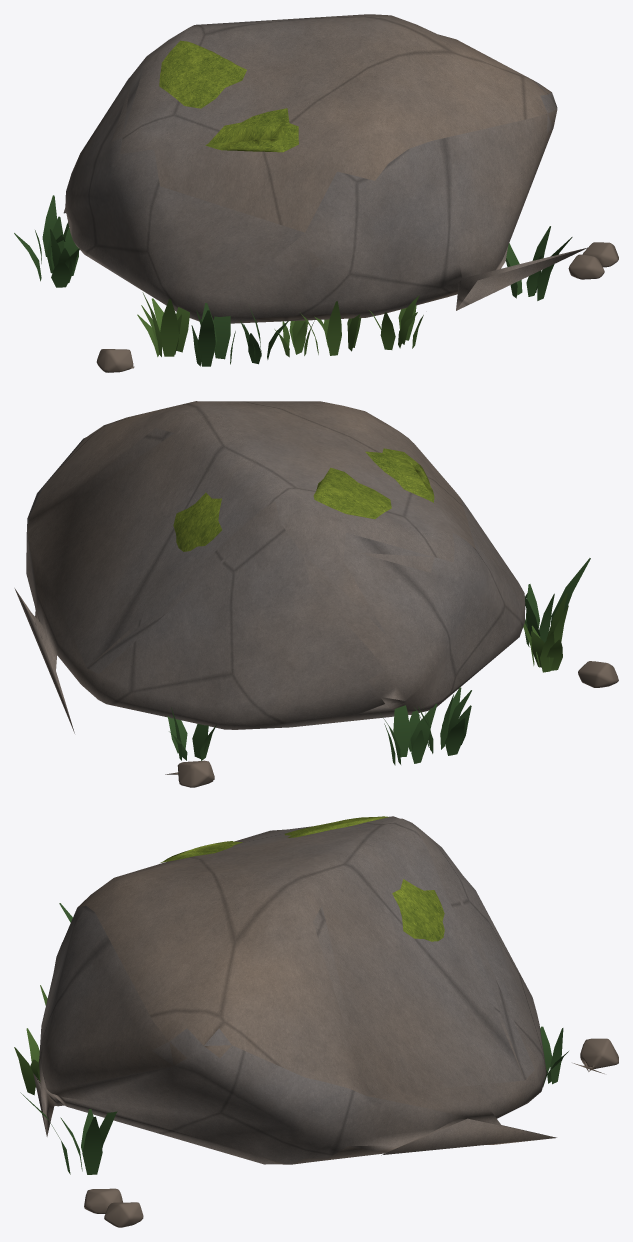
The model's file is rock_single.glb.
3 renders of one model, top to bottom at view 1: azimuth 30°, elevation 25°; view 2: azimuth 150°, elevation 25°; view 3: azimuth 270°, elevation 25°, orthographic. The views are drawn at different scales.
Parts seen in each view (by area): view 1: model; view 2: model; view 3: model.
Part boxes in pixels (x1,y1,x2,y2): model: (14, 14, 618, 372); model: (14, 401, 618, 787); model: (14, 816, 618, 1227).
Size of the model in its own units: 0.9763 by 0.4193 by 0.8988.
Materials: 5 (2 with a texture image).
